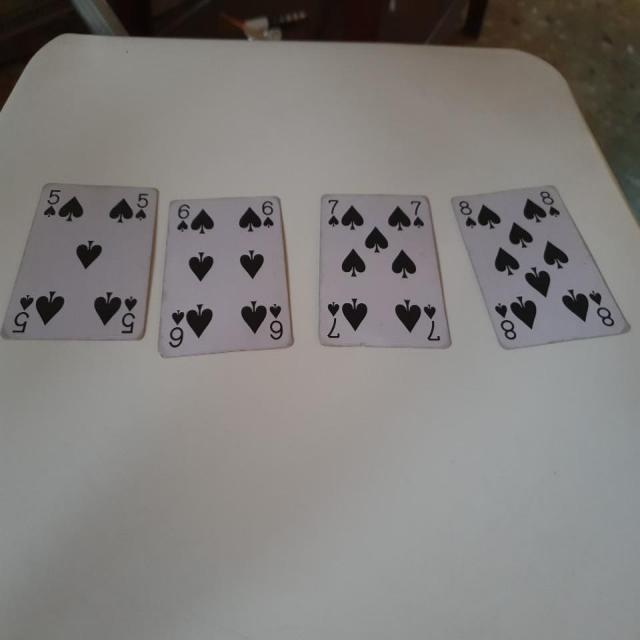5 Spades: (5, 178, 167, 360)
6 Spades: (155, 191, 294, 358)
7 Spades: (314, 181, 454, 359)
8 Spades: (440, 173, 636, 367)
